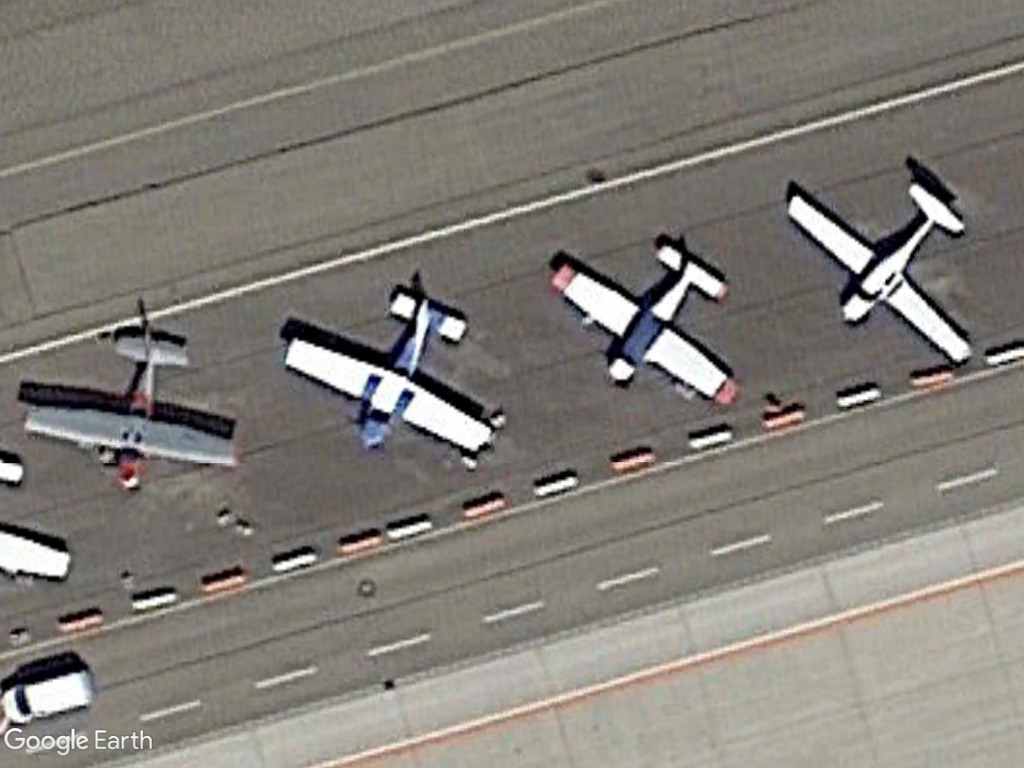trainer: (285, 285, 506, 469), (780, 177, 977, 372), (14, 330, 242, 495), (543, 232, 744, 414)
van: (0, 664, 100, 727)
